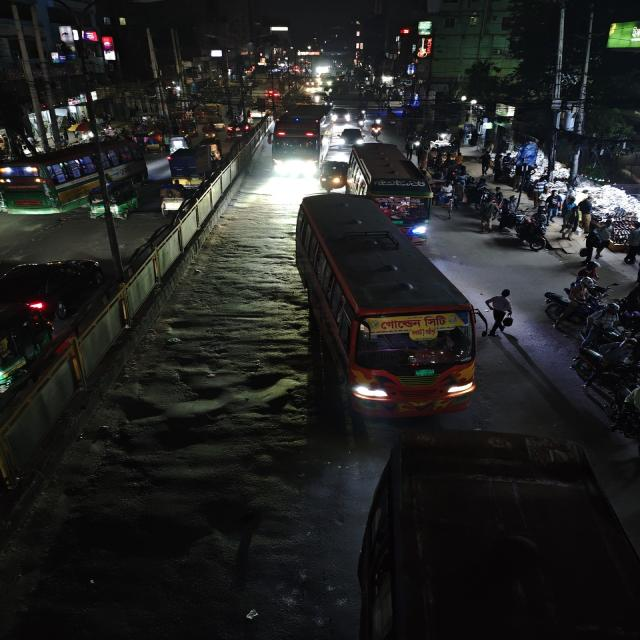bus: (353, 426, 640, 640), (295, 194, 480, 420), (0, 134, 147, 215), (346, 142, 438, 238), (270, 103, 334, 179)
car: (0, 254, 106, 322), (336, 125, 366, 146)
cng: (86, 178, 142, 220), (320, 158, 349, 192)
motorcycle: (514, 216, 558, 256), (370, 122, 383, 140)
pedestrian: (483, 286, 516, 338), (581, 228, 606, 265), (624, 219, 640, 269)
pickup_van: (353, 425, 639, 640)
rickshaw: (157, 182, 195, 216)
truck: (164, 142, 223, 188)
